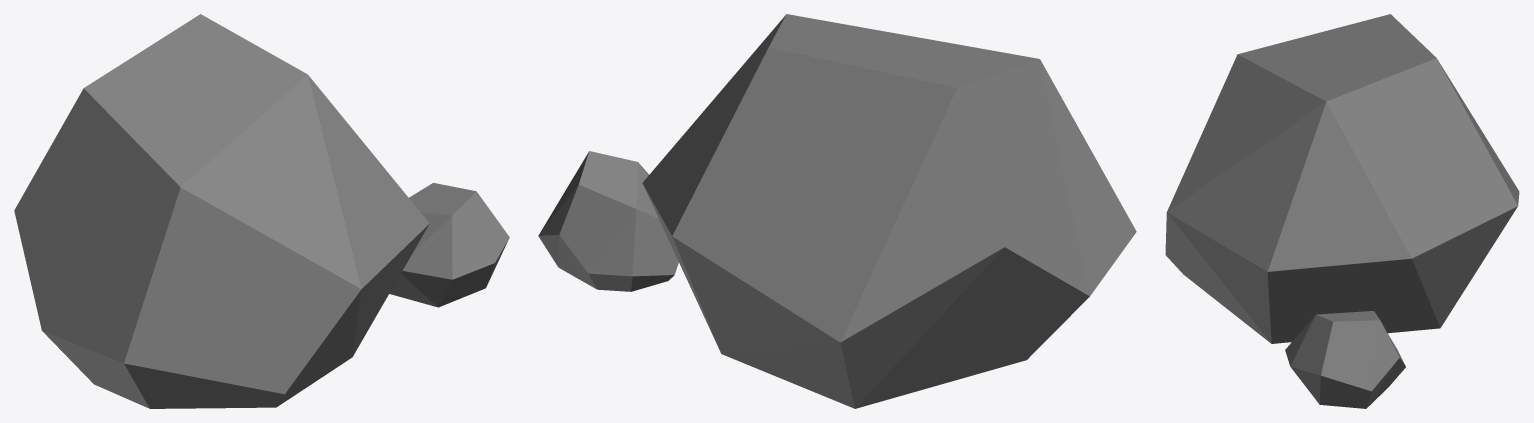
The model's file is Rocks.fbx.
The picture shows the model from 3 angles, left to right: view 1: azimuth 30°, elevation 25°; view 2: azimuth 150°, elevation 25°; view 3: azimuth 270°, elevation 25°; orthographic projection. The views are drawn at different scales.
Visible parts, largest first — view 1: polySurface15; view 2: polySurface15; view 3: polySurface15.
Part boxes in pixels (box(x1,y1,x2,y2)): polySurface15: box(14, 14, 509, 408); polySurface15: box(538, 14, 1136, 408); polySurface15: box(1165, 14, 1519, 408).
Bounding box in the file's own units: 2.49 × 1.48 × 1.83.
